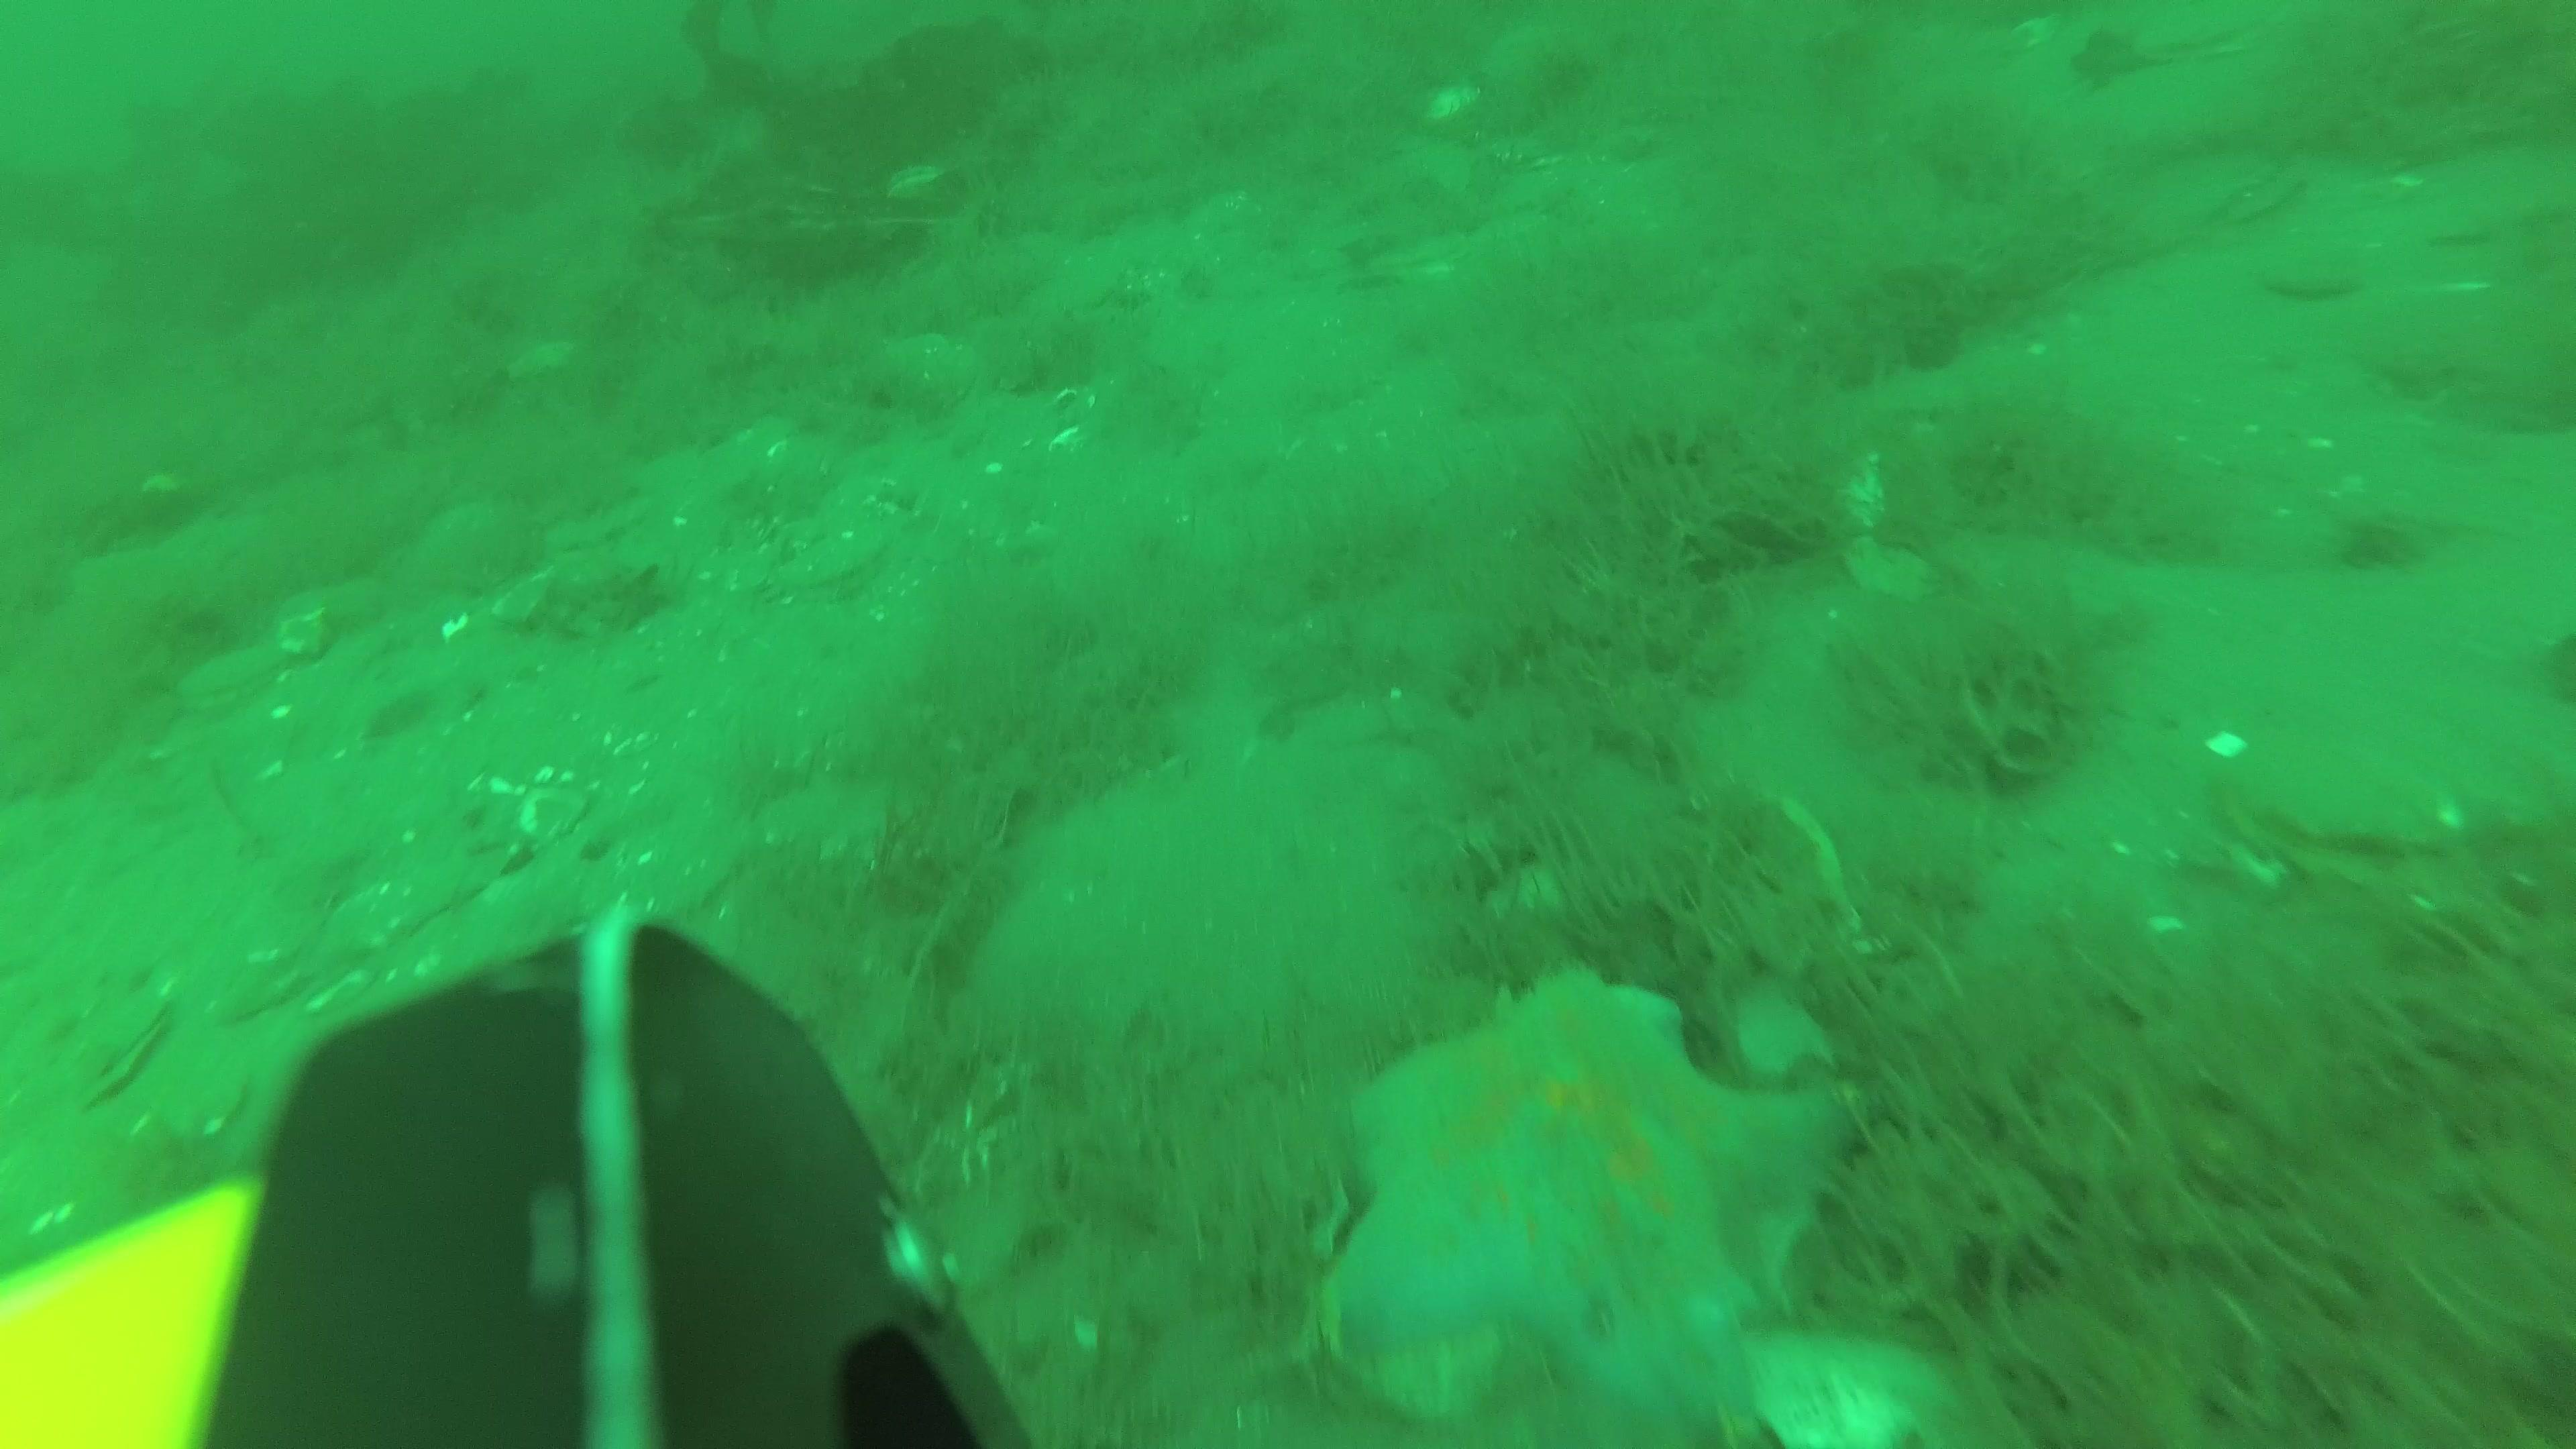scallop: (73, 998, 157, 1097), (203, 959, 313, 1026), (188, 646, 287, 715)
starfish: (1339, 971, 1828, 1421)
